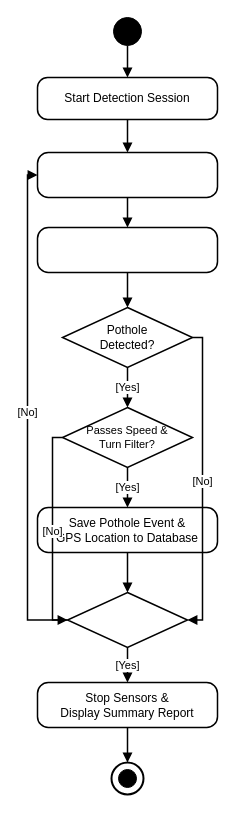
Some shapes in this 235 by 813 pixel diagram are drawn without their labels. The centre of each missing label's shape, as x and y in pixels:
Calculate Z-Axis Shock & Filter Noise: (127,249)
Read Accelerometer & GPS Data: (127,174)
Stop Session?: (127,619)
